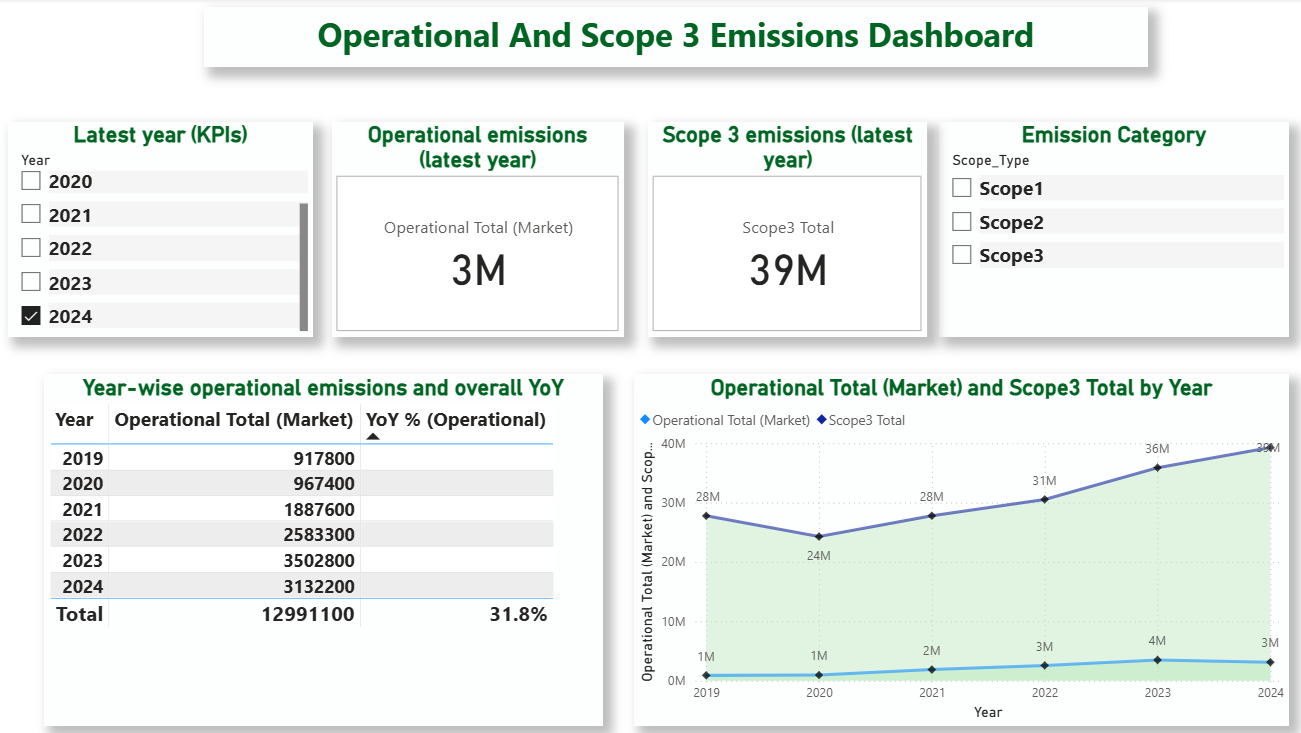

This screenshot's page, from the dashboard's own definition file:
{"tool":"powerbi","page":{"name":"Emissions_Dashboard","canvas":[1280,720],"ordinal":0},"visuals":[{"type":"slicer","title":"Emission Category","fields":{"Values":["Category_Lookup.Scope_Type"]},"box":[924.5,121.1,342.4,210.3],"z":0},{"type":"slicer","title":"Latest year (KPIs)","fields":{"Values":["Years.Year"]},"box":[13.5,121.1,298.4,210.3],"z":1000},{"type":"lineChart","fields":{"Y":["Emissions_yearly.Operational Total (Market)","For emissions_scope3.Scope3 Total"],"Category":["Years.Year"]},"box":[626.1,368.1,640.8,343.6],"z":2000},{"type":"tableEx","title":"Year-wise operational emissions and overall YoY","fields":{"Values":["Date.Year","Emissions_yearly.Operational Total (Market)","Emissions_yearly.YoY % (Operational)"]},"box":[48.9,368.1,546.6,343.6],"z":3000},{"type":"cardVisual","title":"Operational emissions (latest year)","fields":{"Data":["Emissions_yearly.Operational Total (Market)"]},"box":[330.2,121.1,286.1,210.3],"z":4000},{"type":"cardVisual","title":"Scope 3 emissions (latest year)","fields":{"Data":["For emissions_scope3.Scope3 Total"]},"box":[639.5,121.1,273.9,210.3],"z":5000},{"type":"textbox","box":[205.1,8.7,923.1,59.3],"z":6000}]}

Visuals, with their boxes in screenshot pixels (x1, y1, x2, y2), scaled from the page's 1280x720 canvas onto the 1301x733 screenshot:
"Emission Category" slicer: box=[940, 123, 1288, 337]
"Latest year (KPIs)" slicer: box=[14, 123, 317, 337]
lineChart - Emissions_yearly.Operational Total (Market) x For emissions_scope3.Scope3 Total: box=[636, 375, 1288, 725]
"Year-wise operational emissions and overall YoY" tableEx: box=[50, 375, 605, 725]
"Operational emissions (latest year)" cardVisual: box=[336, 123, 626, 337]
"Scope 3 emissions (latest year)" cardVisual: box=[650, 123, 928, 337]
textbox: box=[208, 9, 1147, 69]
